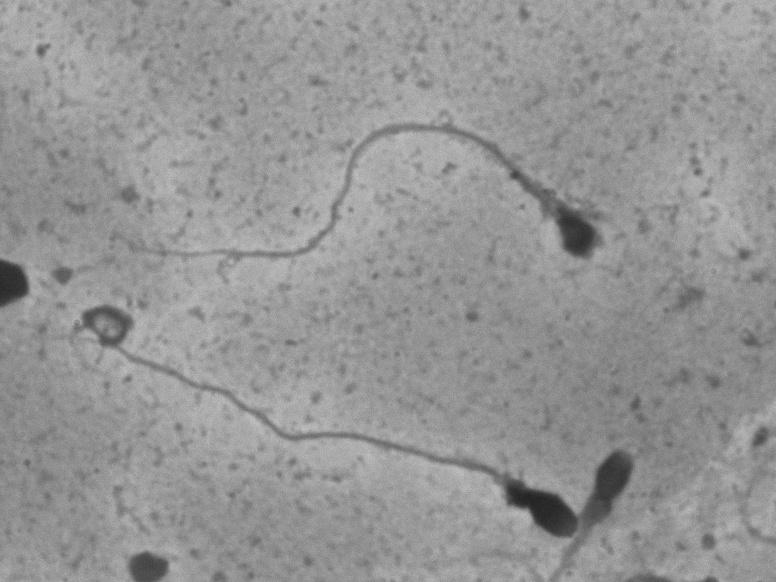Abnormal: (148, 55, 658, 297), (122, 394, 577, 549)
